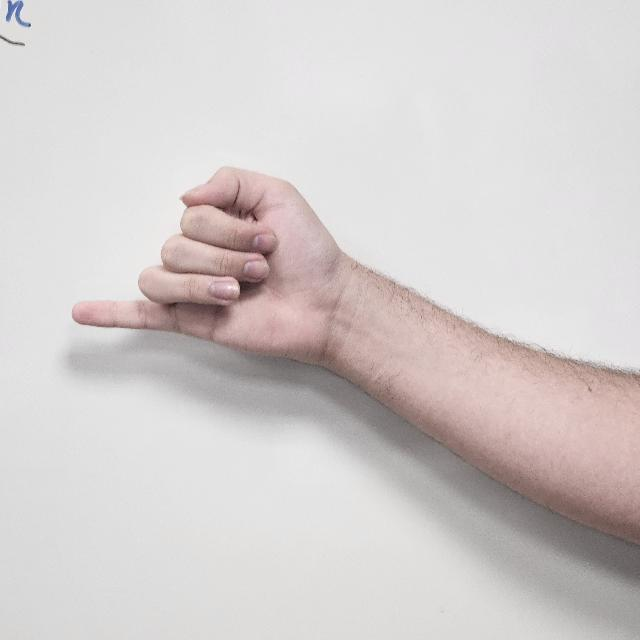Esquerda: (58, 136, 356, 394), (139, 318, 151, 328)
